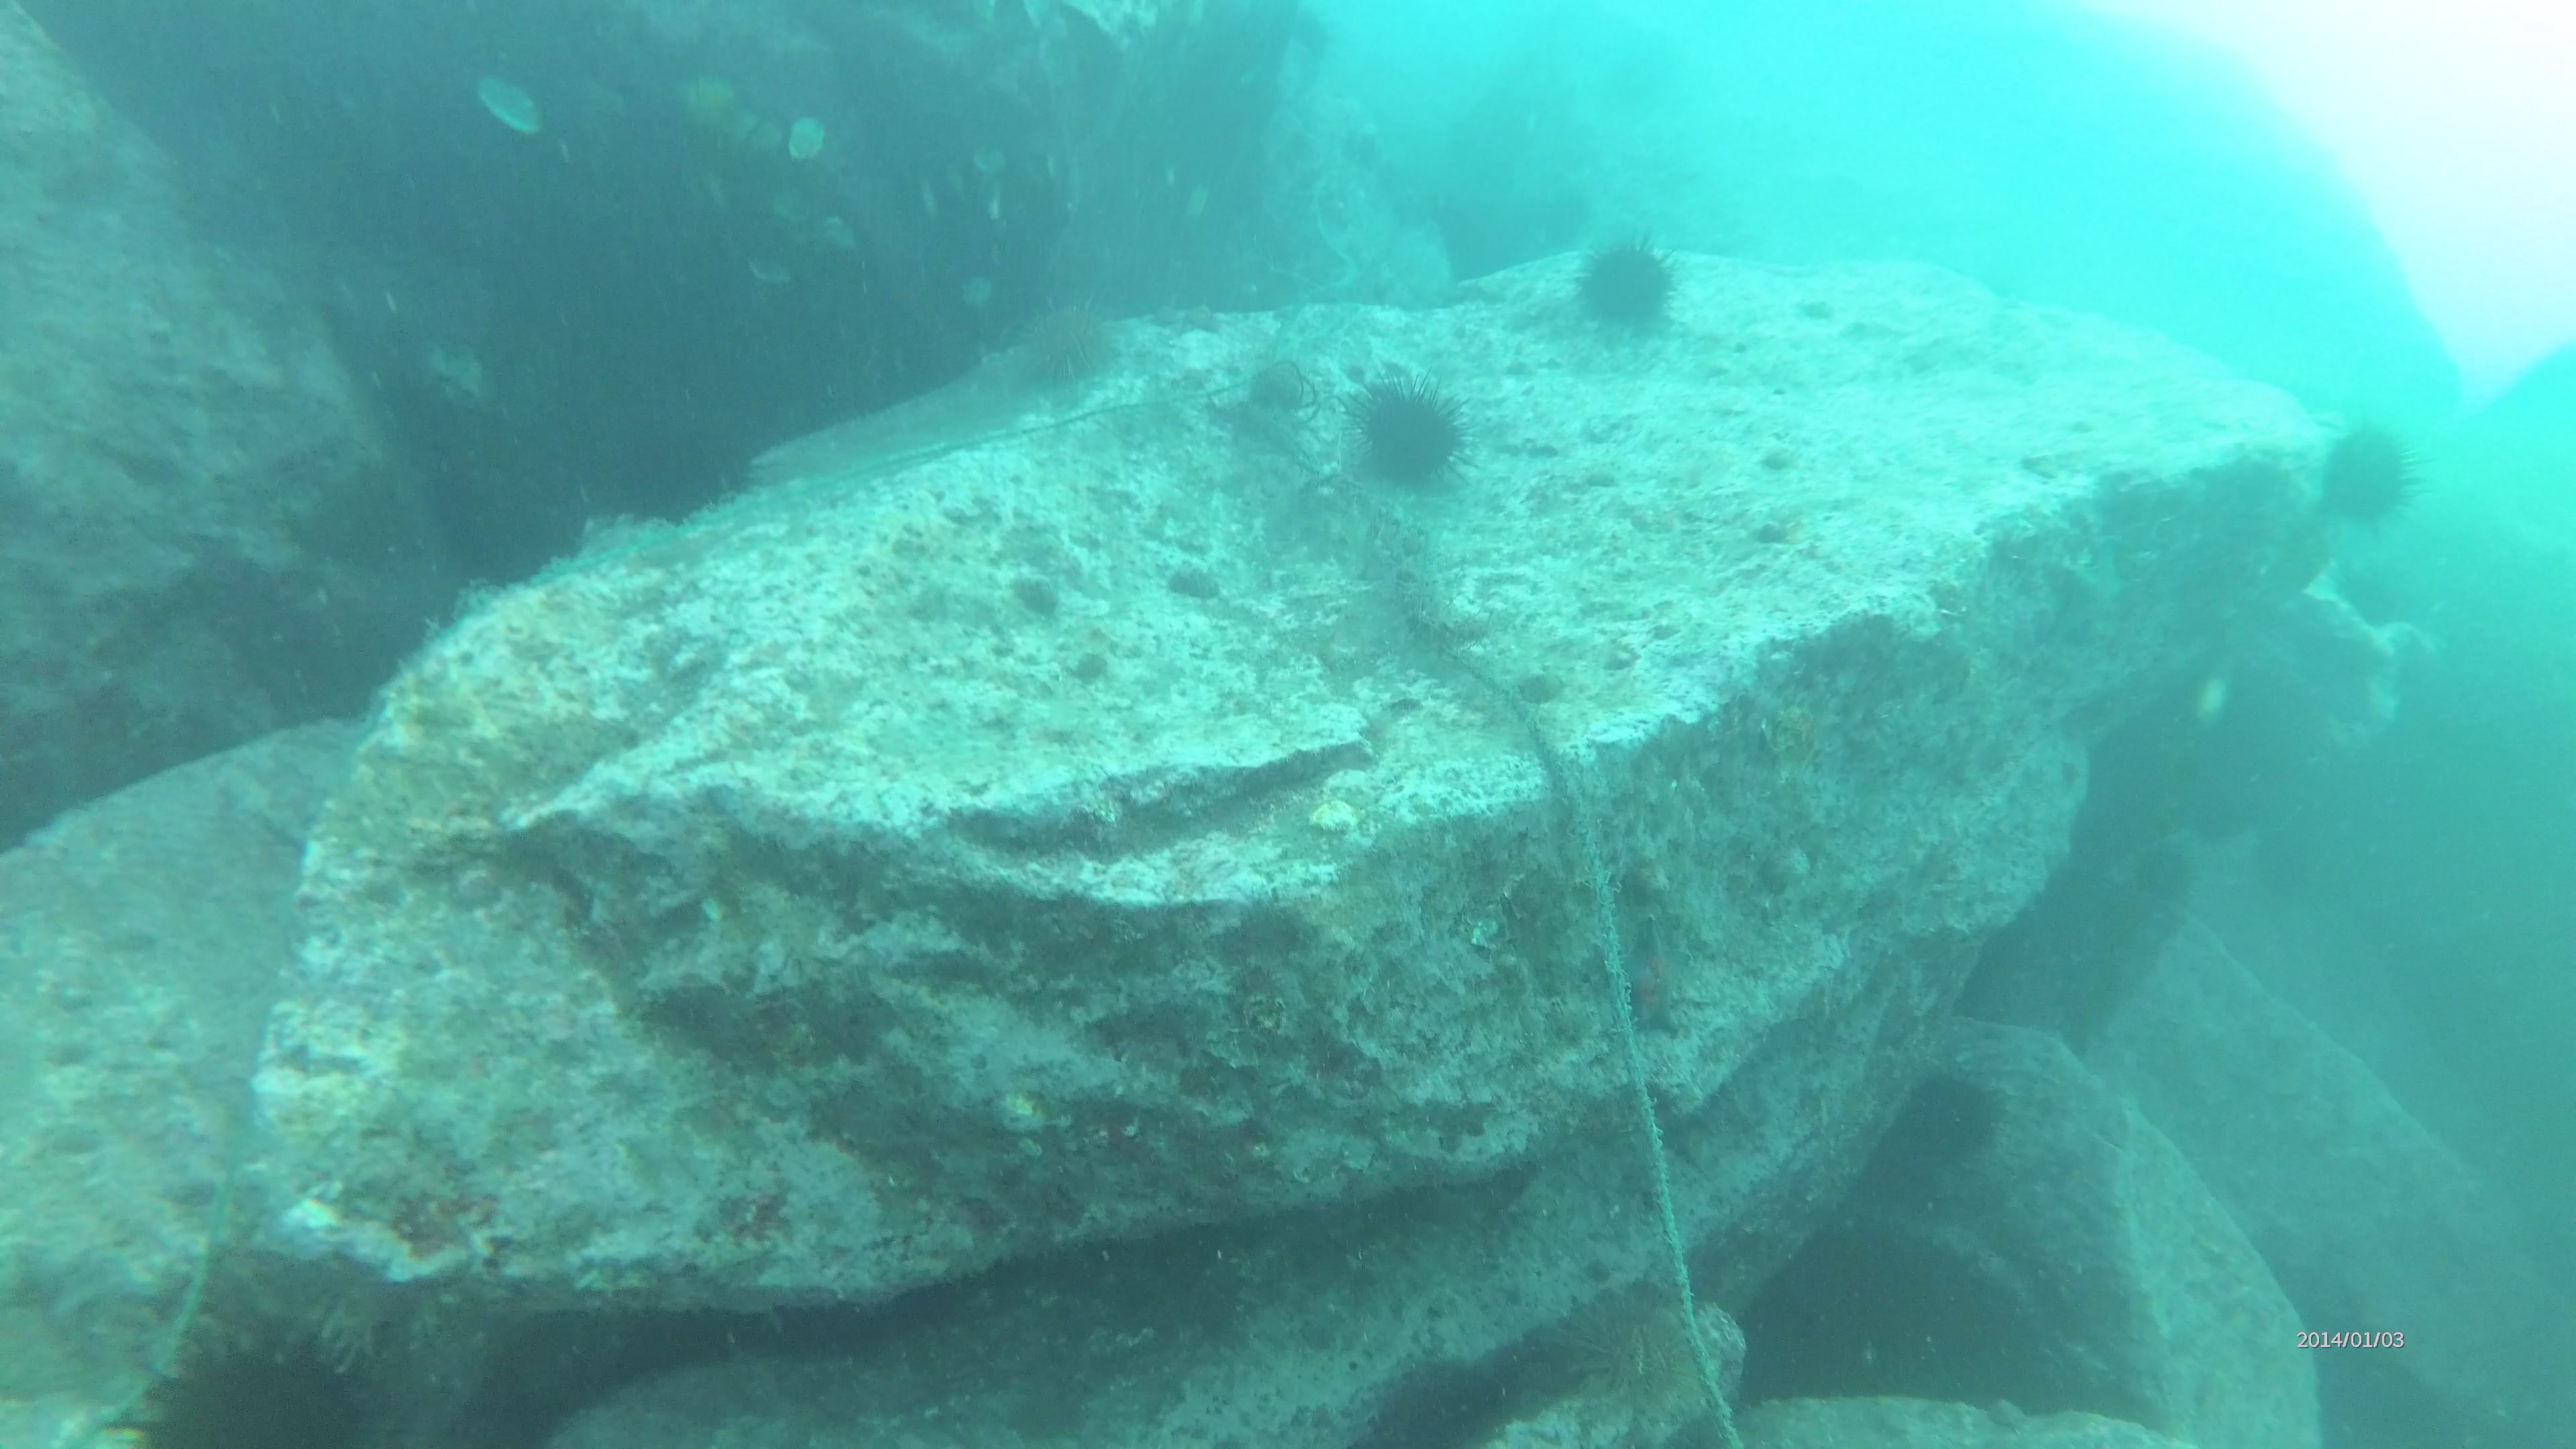echinus: (117, 1313, 396, 1449), (2312, 418, 2434, 550), (1350, 370, 1479, 492), (1555, 1283, 1693, 1392), (1564, 232, 1688, 334), (1884, 1065, 2006, 1166), (1017, 288, 1131, 395), (1380, 1352, 1506, 1447), (1240, 343, 1316, 416)
